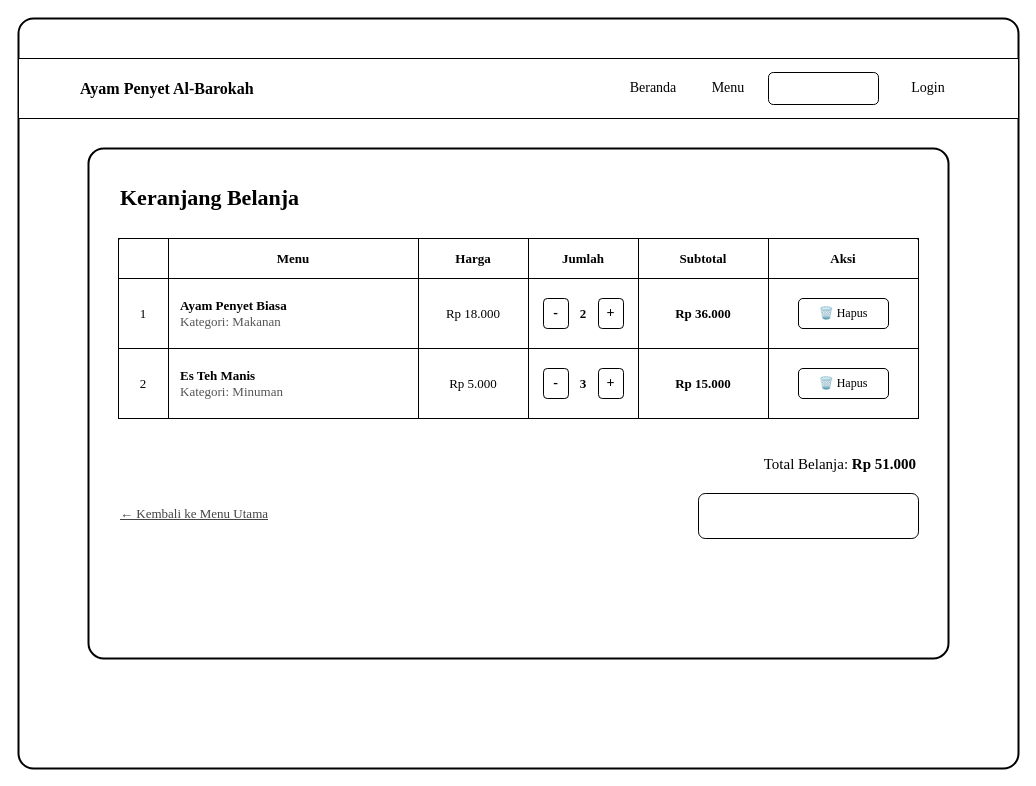
Some shapes in this 1036 by 786 pixel diagram are drawn without their labels. The centre of each missing label's shape, as x and y in pixels:
Keranjang (2): [823,88]
Lanjut ke Checkout: [808,515]
No: [143,258]
